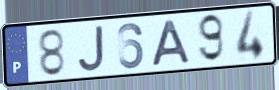4: (234, 8, 267, 63)
6: (116, 21, 146, 70)
8: (36, 28, 66, 77)
9: (195, 13, 227, 66)
A: (150, 18, 193, 68)
J: (76, 24, 106, 74)
